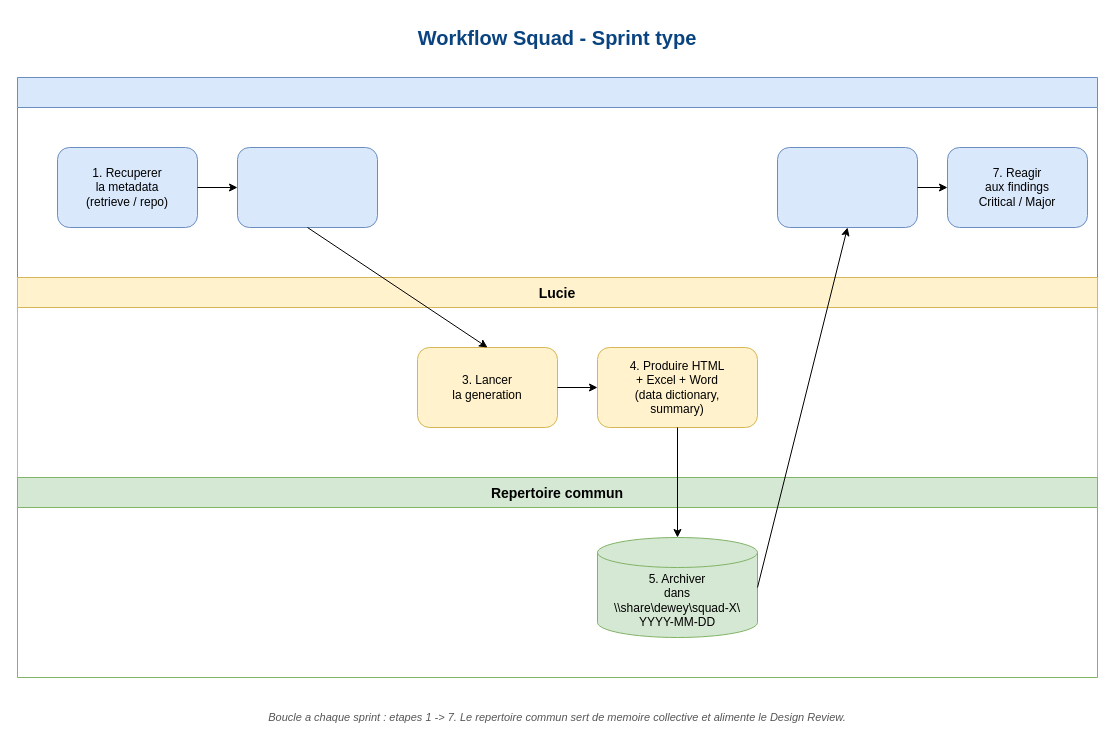
Some shapes in this 1115 by 754 pixel diagram are drawn without their labels. The box of each missing label's shape, as (x1, y1, x2, y2) in pixels:
2. Configurer Lucie (dossiers, langue): (236, 146, 378, 228)
6. Exploiter la doc (story, audit, IA): (776, 146, 918, 228)
Squad: (16, 76, 1098, 278)
